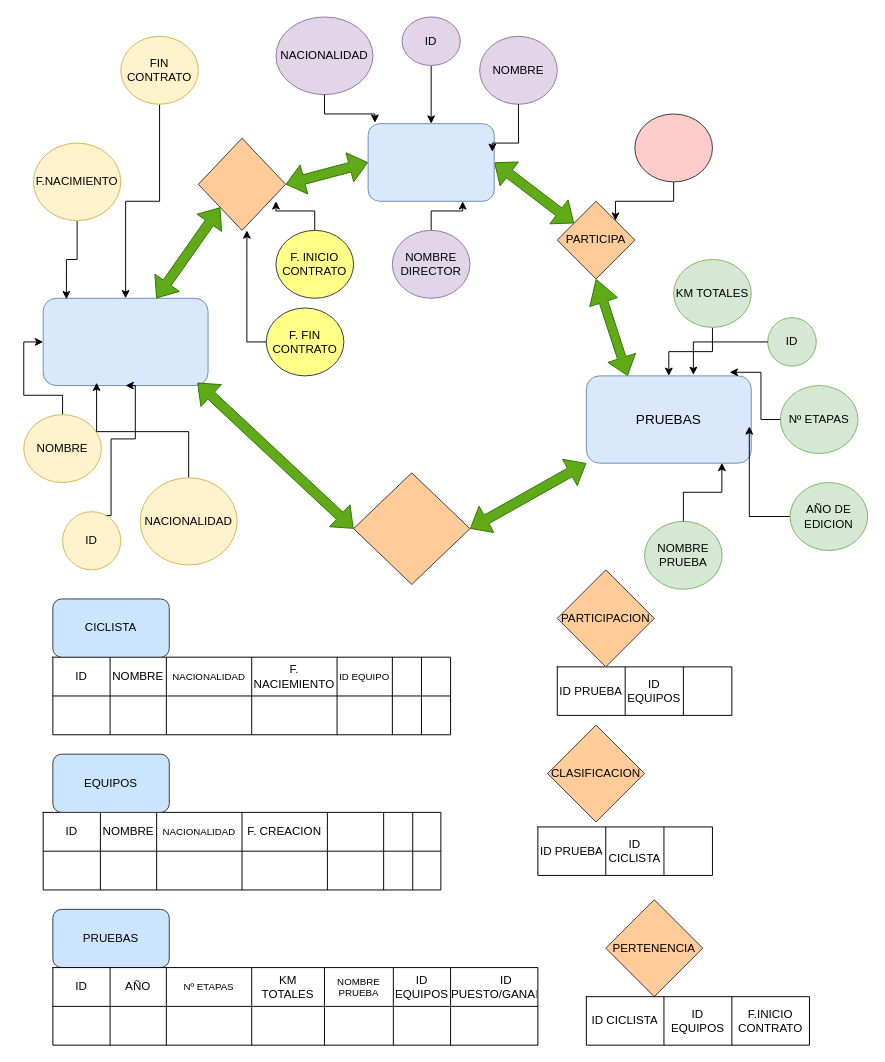
Image size: 885x1062. Some labels were removed from this diagram. The centre of each missing label's shape, as x and y in pixels:
CICLISTAS: the point at 125,341
EQUIPO: the point at 430,162
PERTENECE: the point at 241,183
PUESTO: the point at 673,147
PUESTO/GANADOR: the point at 411,528
